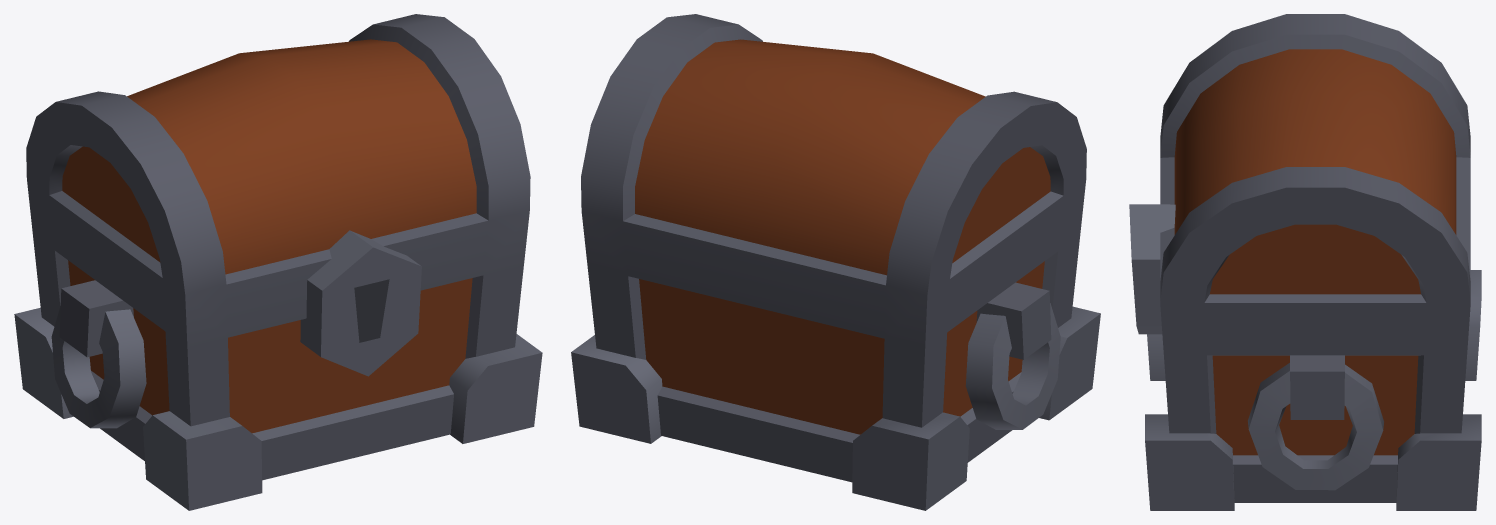
Rendered from cstl_chest_01.fbx.
3 renders of one model, left to right at view 1: azimuth 30°, elevation 25°; view 2: azimuth 150°, elevation 25°; view 3: azimuth 270°, elevation 25°, orthographic. The views are drawn at different scales.
Parts seen in each view (by area): view 1: cstl_chest_01; view 2: cstl_chest_01; view 3: cstl_chest_01.
Part boxes in pixels (x1,y1,x2,y2): cstl_chest_01: [14, 14, 542, 510]; cstl_chest_01: [571, 14, 1100, 510]; cstl_chest_01: [1129, 14, 1481, 510].
Bounding box in the file's own units: 77.89 × 62.09 × 59.41.
